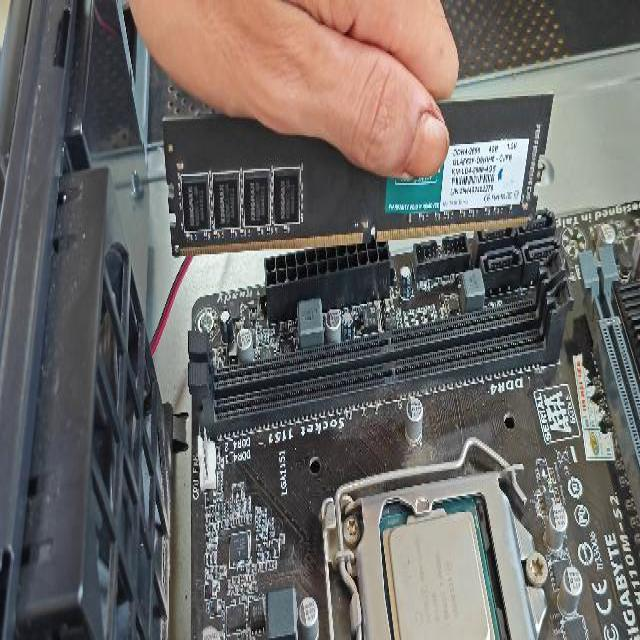CPU: (381, 505, 496, 640)
Mainboard: (181, 201, 640, 640)
RAM: (162, 94, 554, 258)
